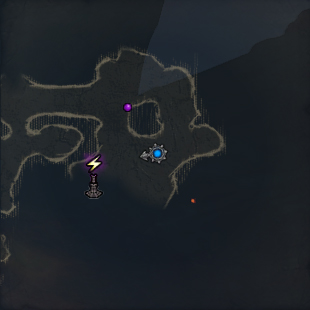ConduitPylon: (85, 153, 104, 198)
